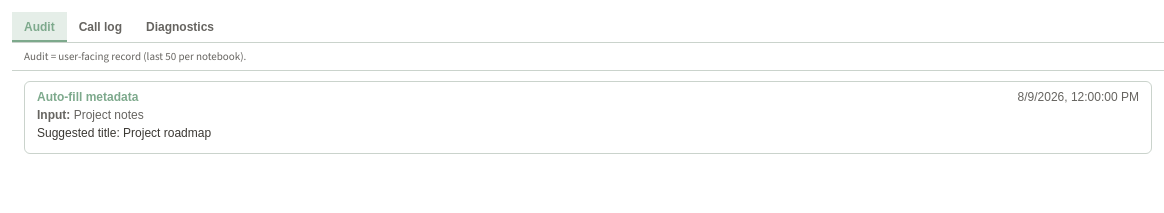
Scenario: AiHistoryPanel › K4: 7일 요약 카드 › renders the summary card with totals, durations, providers, and discard reasons
Step 1. Click the tab "Call log" → [100, 27], box top-left (67, 12), bottom-right (134, 42)
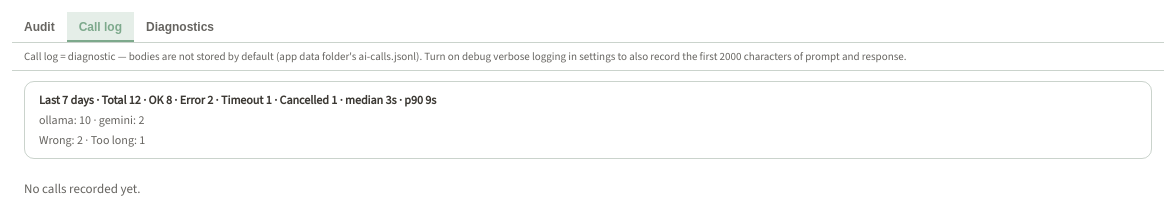
Result: the element with test id "ai-calllog-summary-card" shows "12" at top-left (39, 92), bottom-right (337, 108)
Result: the element with test id "ai-calllog-summary-card" shows "ollama: 10" at top-left (39, 112), bottom-right (144, 128)
Result: the element with test id "ai-calllog-summary-card" shows "gemini: 2" at top-left (39, 112), bottom-right (144, 128)
